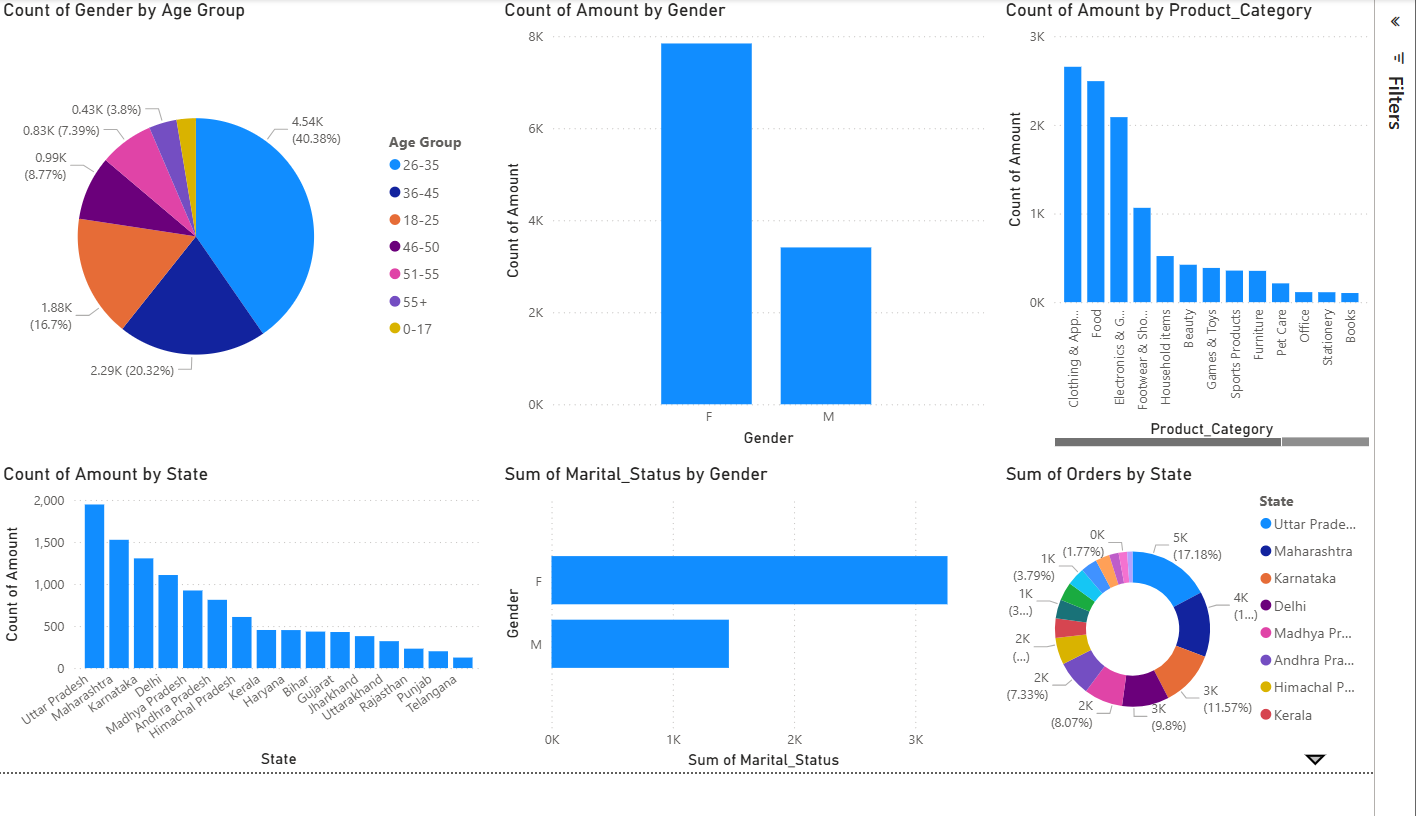

Layout of this report page (visuals, bound fields, positions):
{"tool":"powerbi","page":{"name":"Page 1","canvas":[1280,720],"ordinal":0},"visuals":[{"type":"pieChart","fields":{"Y":["CountNonNull(Sales Data.Gender)"],"Category":["Sales Data.Age Group"]},"box":[0,0,455.6,421.3],"z":0},{"type":"columnChart","fields":{"Y":["CountNonNull(Sales Data.Amount)"],"Category":["Sales Data.State"]},"box":[0,431,456,289],"z":1},{"type":"lineStackedColumnComboChart","fields":{"Category":["Sales Data.Gender"],"Y":["CountNonNull(Sales Data.Amount)"]},"box":[466,0,456,421],"z":2},{"type":"barChart","fields":{"Y":["Sum(Sales Data.Marital_Status)"],"Category":["Sales Data.Gender"]},"box":[466.6,430.9,455.6,289.5],"z":3},{"type":"lineStackedColumnComboChart","fields":{"Category":["Sales Data.Product_Category"],"Y":["CountNonNull(Sales Data.Amount)"]},"box":[932,0,348,421],"z":4},{"type":"donutChart","fields":{"Y":["Sum(Sales Data.Orders)"],"Category":["Sales Data.State"]},"box":[932,431,348,289],"z":5}]}

Visuals, with their boxes in screenshot pixels (x1, y1, x2, y2), scaled from the page's 1280x720 canvas onto the 1416x816 screenshot:
pieChart - CountNonNull(Sales Data.Gender) x Sales Data.Age Group: <bbox>0, 0, 504, 477</bbox>
columnChart - CountNonNull(Sales Data.Amount) x Sales Data.State: <bbox>0, 488, 504, 815</bbox>
lineStackedColumnComboChart - Sales Data.Gender x CountNonNull(Sales Data.Amount): <bbox>516, 0, 1020, 477</bbox>
barChart - Sum(Sales Data.Marital_Status) x Sales Data.Gender: <bbox>516, 488, 1020, 815</bbox>
lineStackedColumnComboChart - Sales Data.Product_Category x CountNonNull(Sales Data.Amount): <bbox>1031, 0, 1415, 477</bbox>
donutChart - Sum(Sales Data.Orders) x Sales Data.State: <bbox>1031, 488, 1415, 815</bbox>
